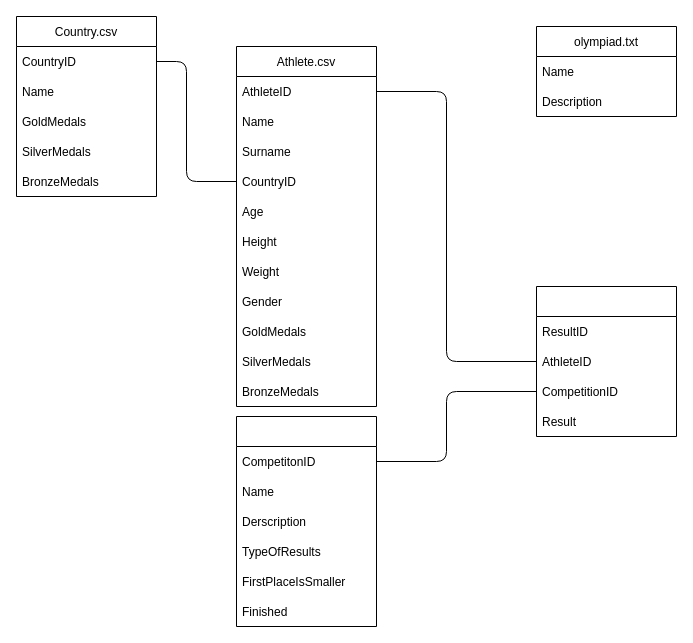
Image size: 693x643. Some labels were removed from this diagram. The shapes that lost their labels are listed below. From the top down, each one's box as (x1, y1, x2, y2) in pixels, then its label:
(536, 286, 676, 436): Result.csv
(236, 416, 376, 626): Competition.csv
